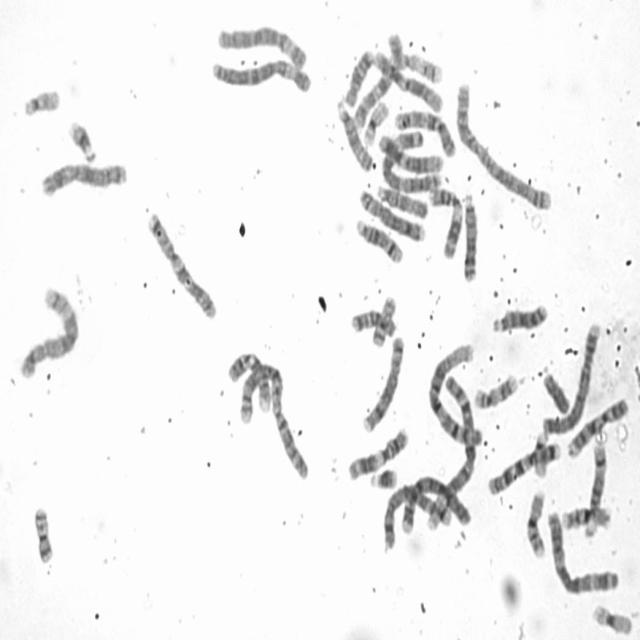A1: (424, 369, 477, 531), (425, 339, 483, 447)
A2: (453, 80, 553, 214), (233, 351, 311, 484)
A3: (545, 507, 621, 596), (378, 129, 444, 195)
B4: (541, 318, 602, 436), (400, 473, 474, 539)
B5: (15, 282, 80, 381), (381, 489, 455, 554)
C10: (349, 32, 405, 138), (392, 106, 457, 159)
C11: (345, 423, 410, 483), (426, 185, 464, 260)
C12: (372, 46, 444, 115), (378, 130, 444, 177)
C6: (214, 20, 308, 72), (207, 54, 313, 94)
C7: (145, 209, 218, 321), (484, 437, 562, 497)
C8: (360, 332, 406, 436), (356, 185, 426, 244)
C9: (565, 394, 630, 460), (225, 348, 274, 415)
D13: (489, 300, 548, 334), (460, 190, 479, 284)
D14: (353, 215, 404, 265), (583, 439, 608, 538)
D15: (334, 96, 374, 175), (375, 183, 429, 220)
E16: (523, 486, 547, 558), (560, 501, 612, 532)
E17: (471, 369, 519, 411), (389, 51, 442, 86)
E18: (341, 45, 375, 108), (349, 306, 397, 339)
F19: (361, 96, 391, 149), (589, 600, 633, 636)
F20: (368, 293, 398, 349), (31, 502, 55, 564)
G21: (66, 116, 98, 166), (367, 464, 399, 491)
G22: (21, 84, 61, 118), (532, 428, 550, 479)
X: (39, 156, 129, 200)
Y: (541, 368, 571, 417)
